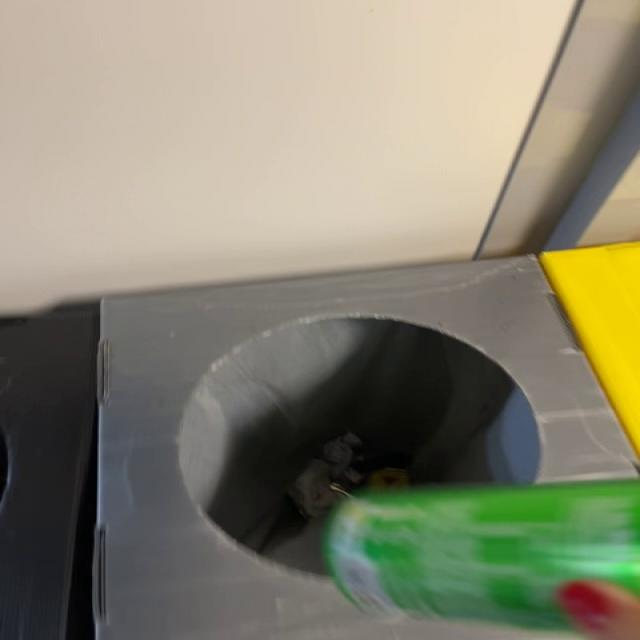bin: (92, 257, 637, 640)
metal: (324, 481, 639, 632)
